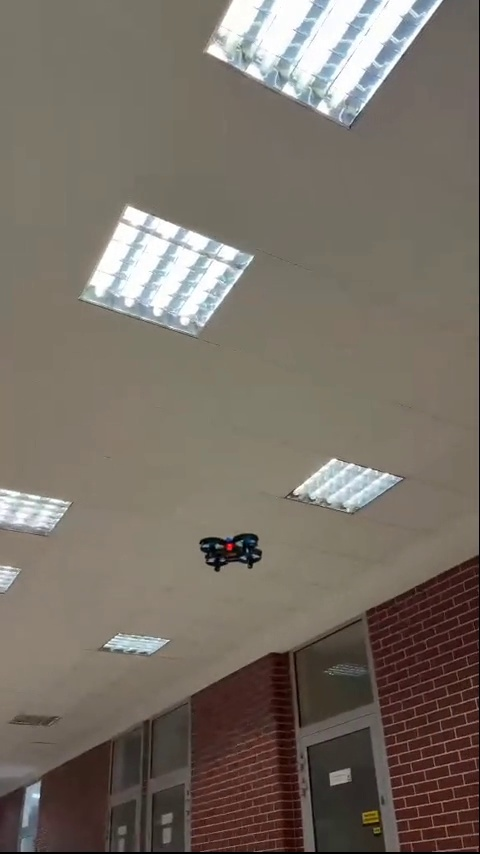drone: (200, 530, 262, 572)
